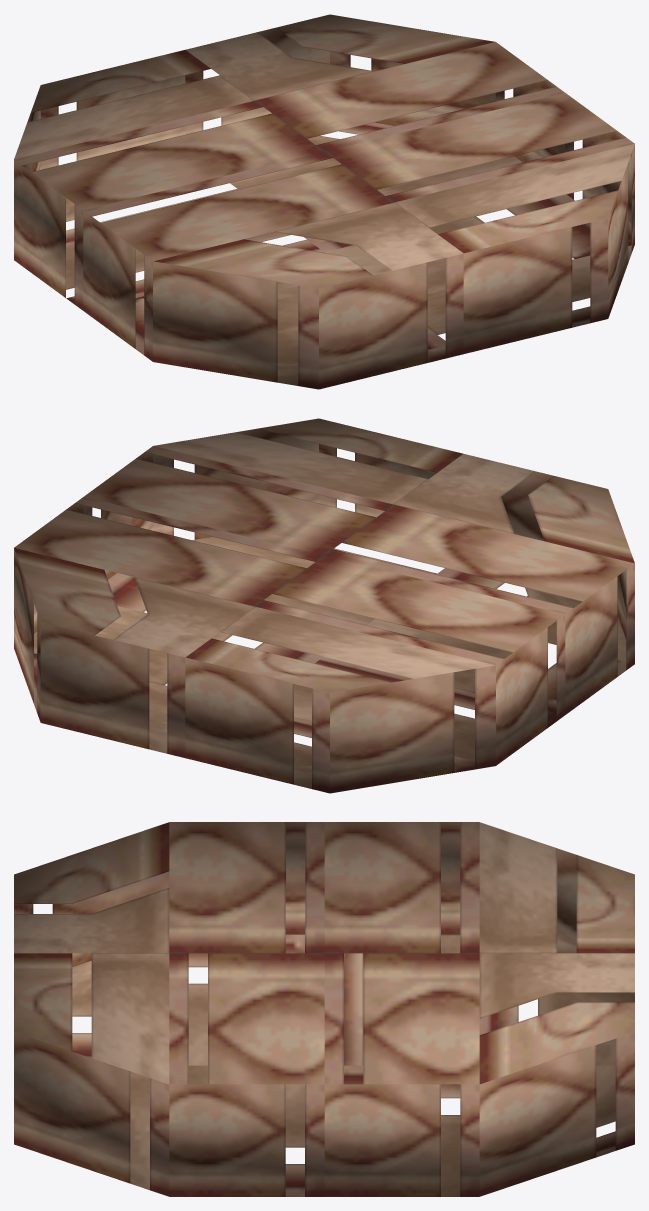
3 views of the same model, one above another, from view 1: azimuth 30°, elevation 25°; view 2: azimuth 150°, elevation 25°; view 3: azimuth 270°, elevation 25° (orthographic). The views are drawn at different scales.
Parts seen in each view (by area): view 1: T1L1M008_7; view 2: T1L1M008_7; view 3: T1L1M008_7.
Boxes of the visible parts, <box> form: T1L1M008_7: <box>14,14,634,389</box>; T1L1M008_7: <box>14,418,634,793</box>; T1L1M008_7: <box>14,822,634,1196</box>.
Bounding box in the file's own units: 2 × 0.3994 × 2.
